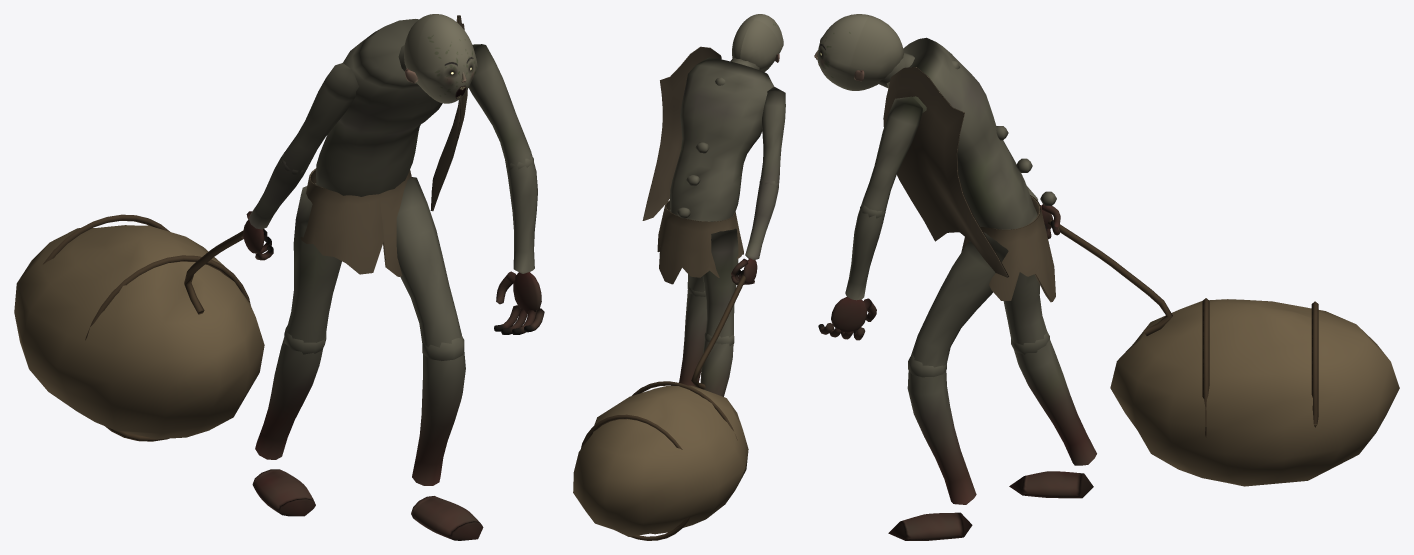
Rendered from ghoul.glb.
3 views of the same model, side by side, from view 1: azimuth 30°, elevation 25°; view 2: azimuth 150°, elevation 25°; view 3: azimuth 270°, elevation 25° (orthographic). The views are drawn at different scales.
Parts seen in each view (by area): view 1: ghoul-body, ghoul-face; view 2: ghoul-body, ghoul-face; view 3: ghoul-body, ghoul-face.
Boxes of the visible parts, x1=… form: ghoul-body: x1=14, y1=15, x2=544, y2=540; ghoul-face: x1=404, y1=14, x2=477, y2=103; ghoul-body: x1=573, y1=46, x2=785, y2=540; ghoul-face: x1=732, y1=14, x2=783, y2=72; ghoul-body: x1=814, y1=37, x2=1399, y2=540; ghoul-face: x1=817, y1=14, x2=903, y2=90.
Size of the model in its own units: 0.488 by 0.9096 by 0.9669.
Materials: 2 (1 with a texture image).
